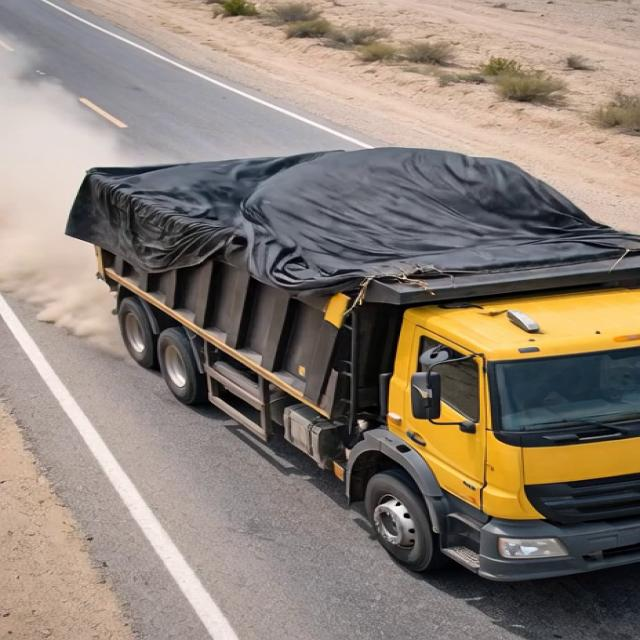trailer: (73, 154, 624, 274)
truck: (58, 128, 640, 581)
